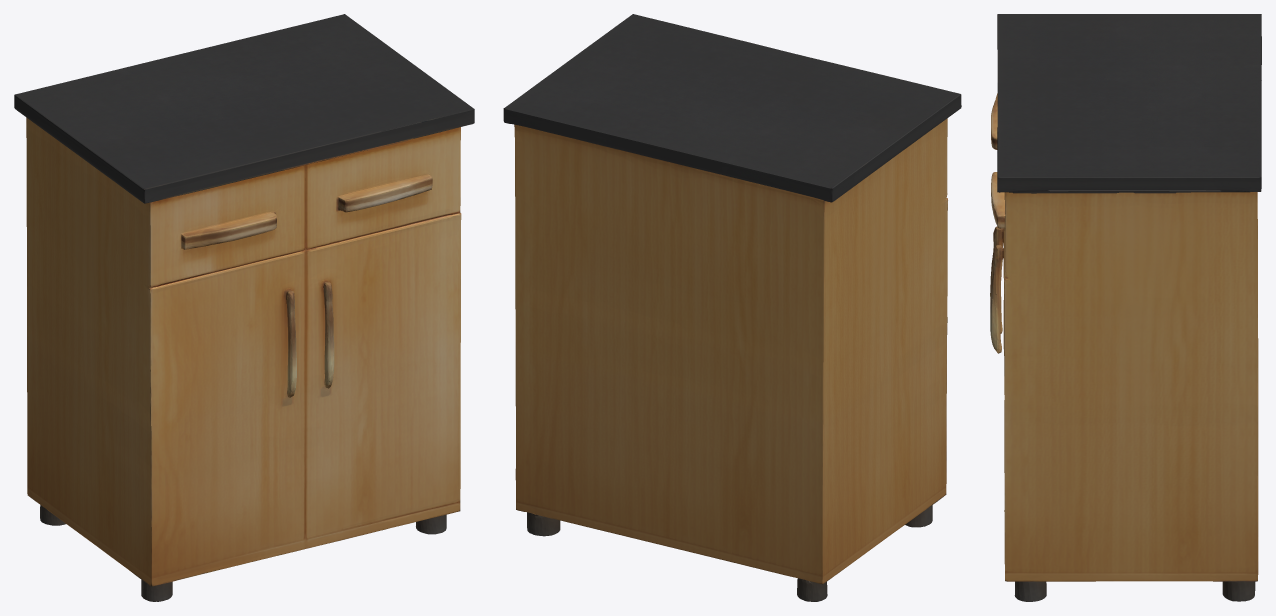
Rendered from linda_base_2door_baf.glb.
3 views of the same model, side by side, from view 1: azimuth 30°, elevation 25°; view 2: azimuth 150°, elevation 25°; view 3: azimuth 270°, elevation 25° (orthographic). The views are drawn at different scales.
Parts seen in each view (by area): view 1: world; view 2: world; view 3: world.
Boxes of the visible parts, x1=… form: world: x1=14, y1=14, x2=474, y2=601; world: x1=503, y1=14, x2=961, y2=601; world: x1=990, y1=14, x2=1261, y2=601.
Bounding box in the file's own units: 0.8151 × 1 × 0.5706.
Materials: 1 (1 with a texture image).
